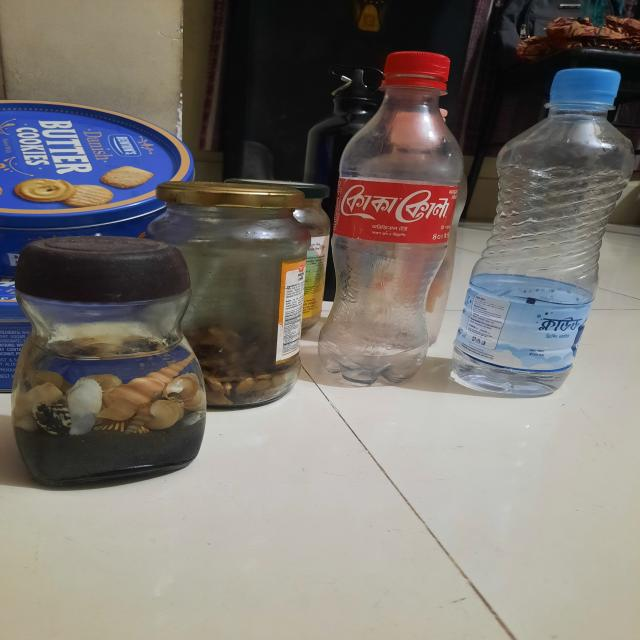Glass: (0, 306, 330, 470)
Plastics: (320, 36, 609, 428)
can: (0, 90, 304, 273)
